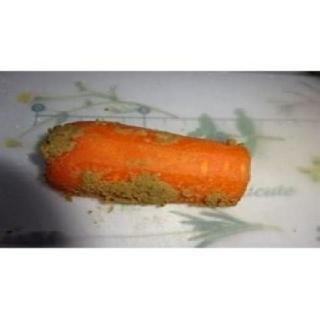carrot: (18, 108, 256, 224)
